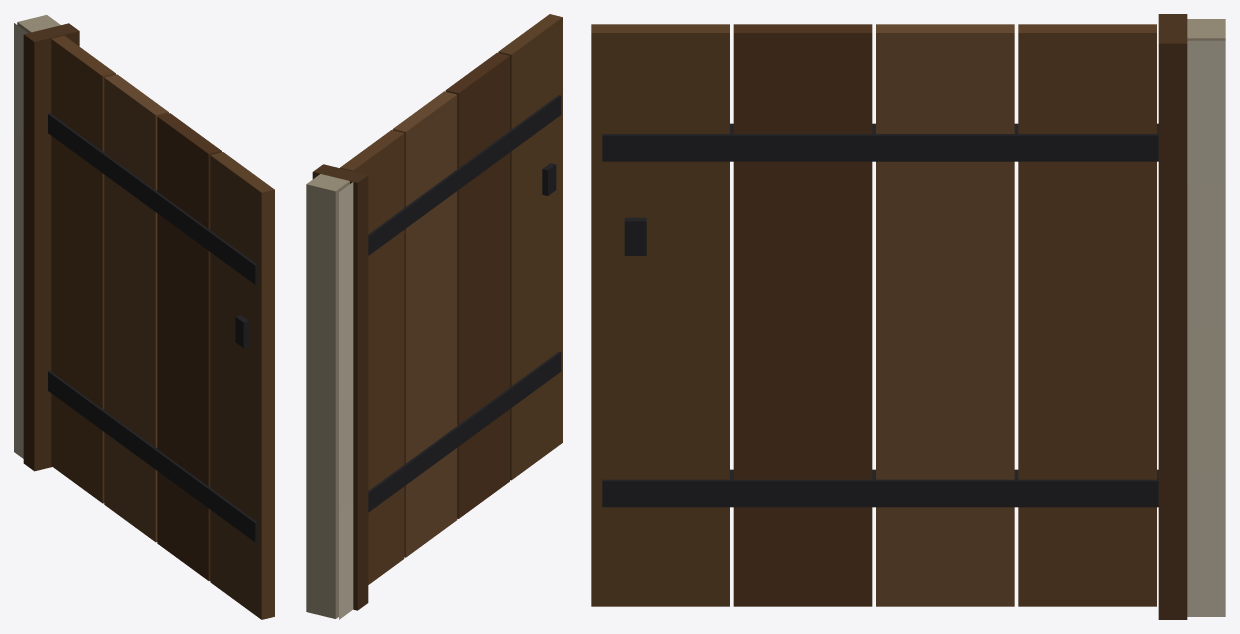
The model's file is wall-plaster-door-shut-low-l.glb.
3 renders of one model, left to right at view 1: azimuth 30°, elevation 25°; view 2: azimuth 150°, elevation 25°; view 3: azimuth 270°, elevation 25°, orthographic. The views are drawn at different scales.
Parts seen in each view (by area): view 1: wall-plaster-door-shut-low-l; view 2: wall-plaster-door-shut-low-l; view 3: wall-plaster-door-shut-low-l.
Part boxes in pixels (x1,y1,x2,y2): wall-plaster-door-shut-low-l: (14, 15, 274, 619); wall-plaster-door-shut-low-l: (306, 14, 562, 619); wall-plaster-door-shut-low-l: (591, 14, 1225, 619).
Size of the model in its own units: 0.11 by 1 by 0.997.
